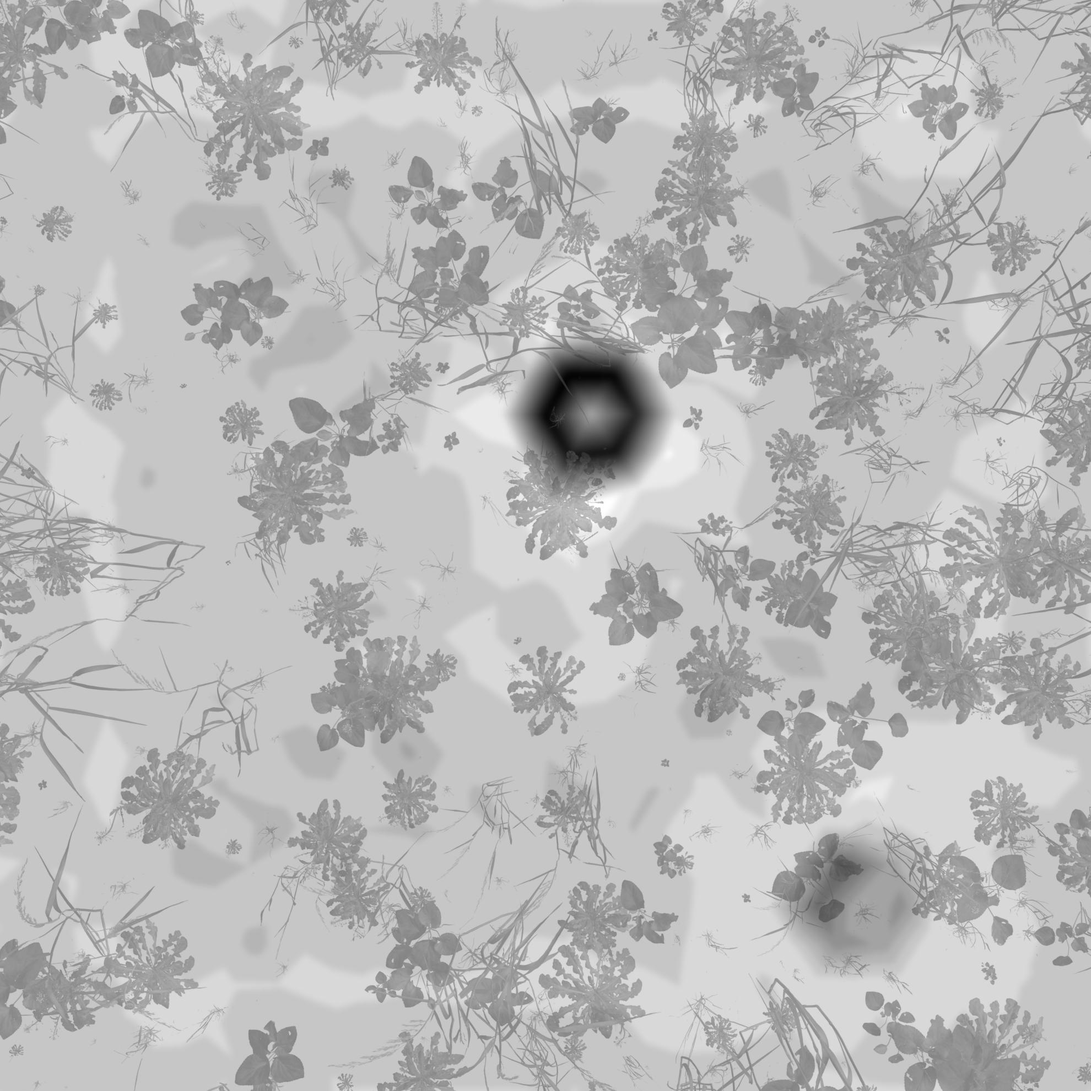landmine: (774, 821, 933, 979), (511, 333, 658, 491)
